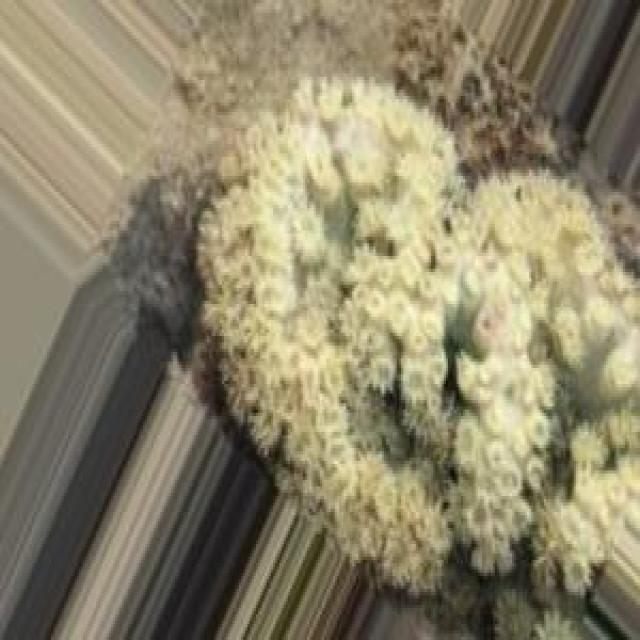Bleached: (202, 81, 458, 587), (451, 171, 639, 593)
